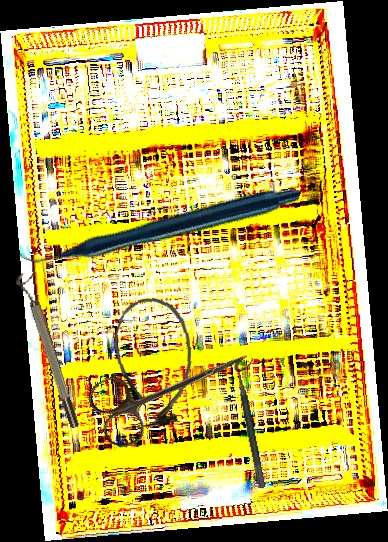Cannula: (112, 295, 196, 430)
Fixation Ring: (13, 269, 83, 432), (232, 357, 278, 489)
Handpiece: (18, 102, 302, 346)
Iris Scissors: (83, 321, 261, 453)
